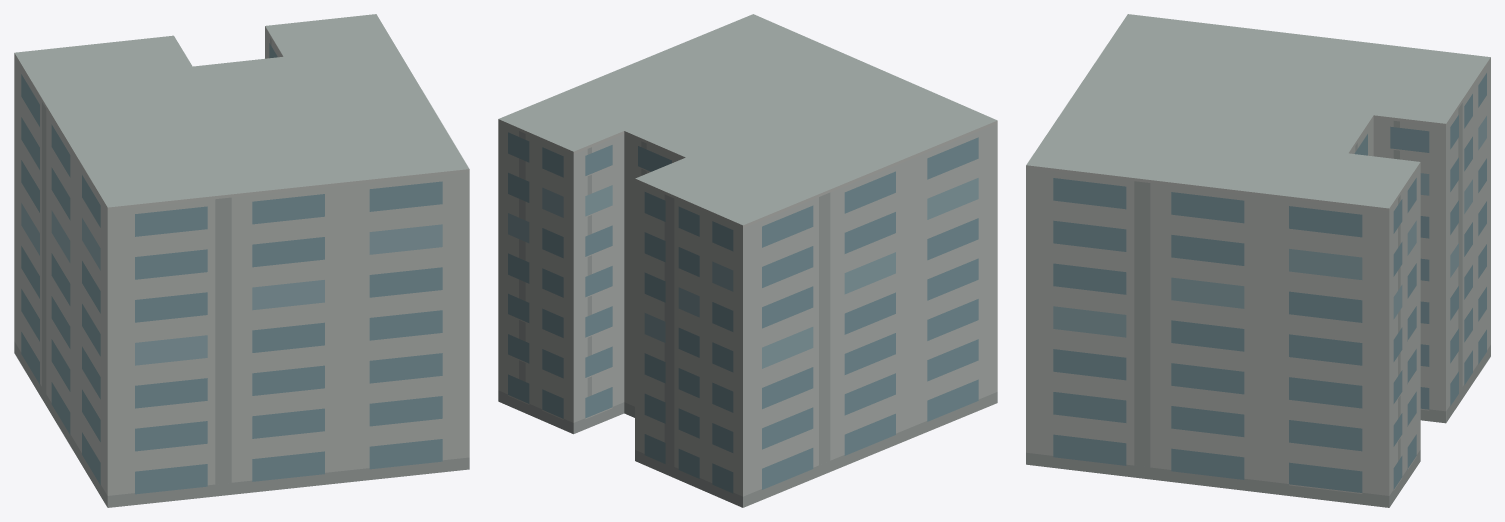
The model's file is survey-upis-32856411.glb.
3 views of the same model, side by side, from view 1: azimuth 30°, elevation 25°; view 2: azimuth 150°, elevation 25°; view 3: azimuth 270°, elevation 25° (orthographic). The views are drawn at different scales.
Parts seen in each view (by area): view 1: survey-upis-32856411.tmp; view 2: survey-upis-32856411.tmp; view 3: survey-upis-32856411.tmp.
Part boxes in pixels (x1,y1,x2,y2): survey-upis-32856411.tmp: (14,14,469,507); survey-upis-32856411.tmp: (498,14,997,507); survey-upis-32856411.tmp: (1026,14,1490,507).
Size of the model in its own units: 32.89 by 23.6 by 33.21.
